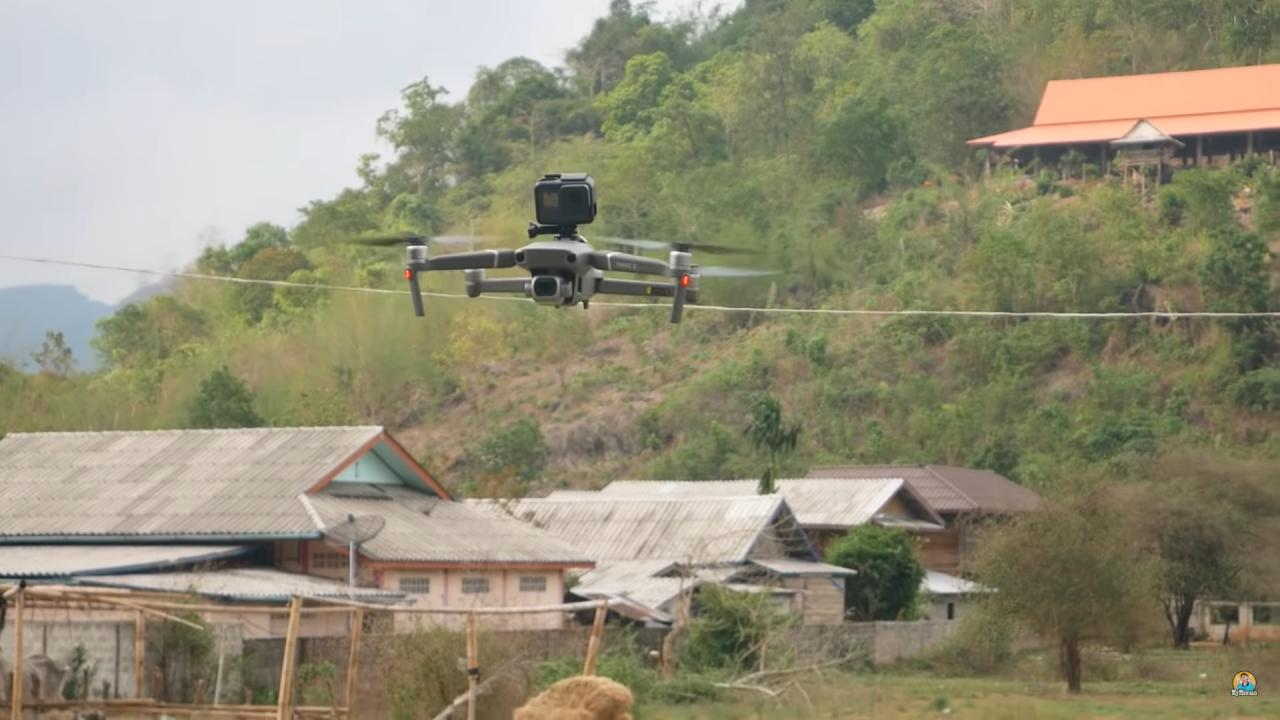Drone: (335, 148, 810, 345)
